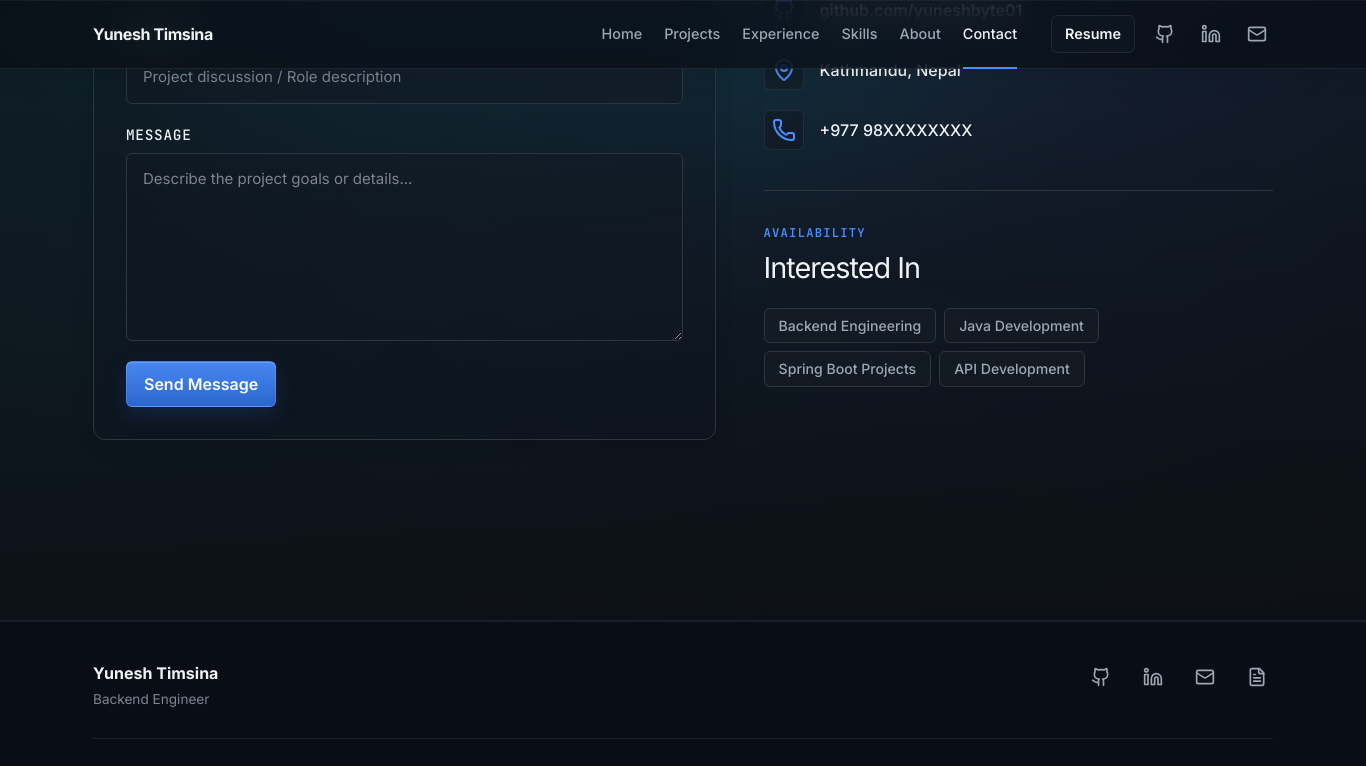
Portfolio v2 application › renders the contact page details and validates empty forms
The image size is (1366, 766).
(page scrolled)
Step 1. Click the button "Send Message" → {"x": 201, "y": 384}, box [126,361,276,407]
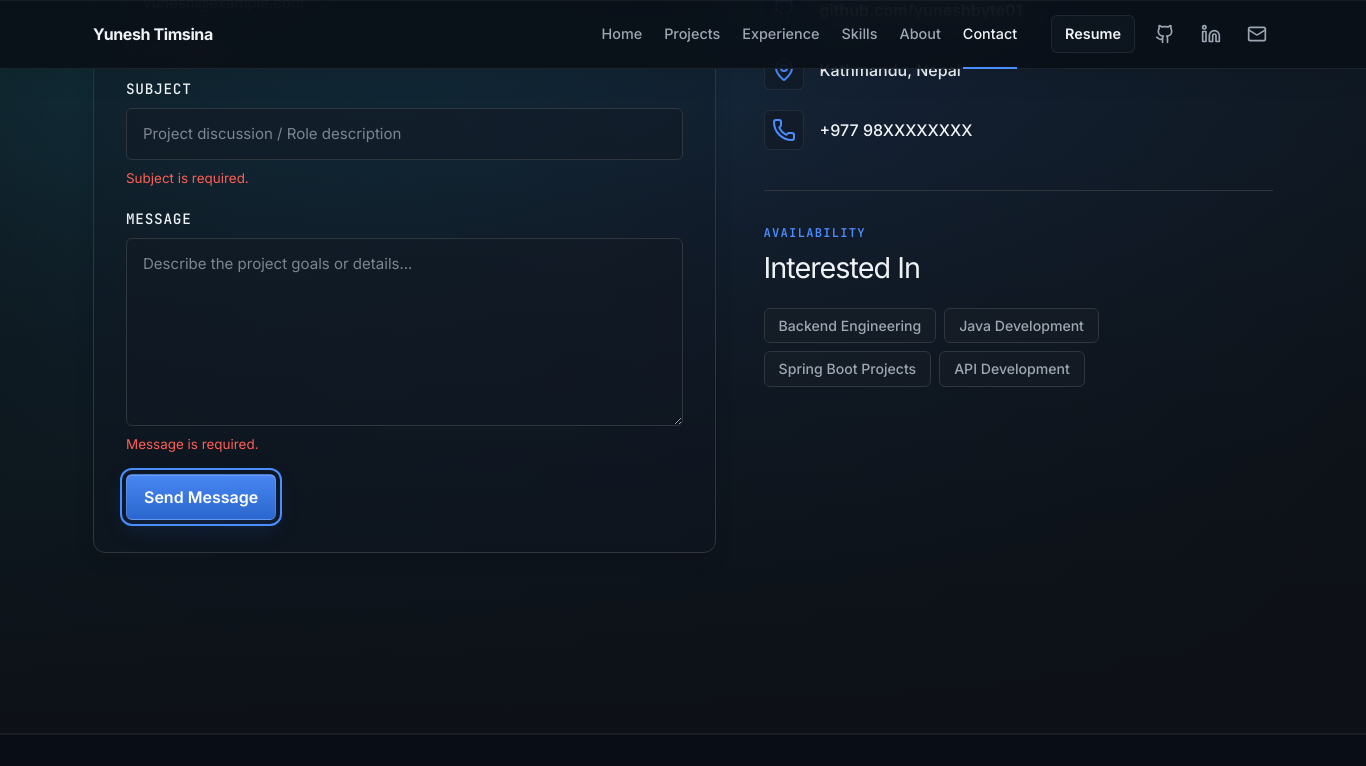
expect the text "Email is required." is shown: met, box [126,40,235,56]
expect the text "Subject is required." is shown: met, box [126,170,249,186]
expect the text "Message is required." is shown: met, box [126,436,259,452]
